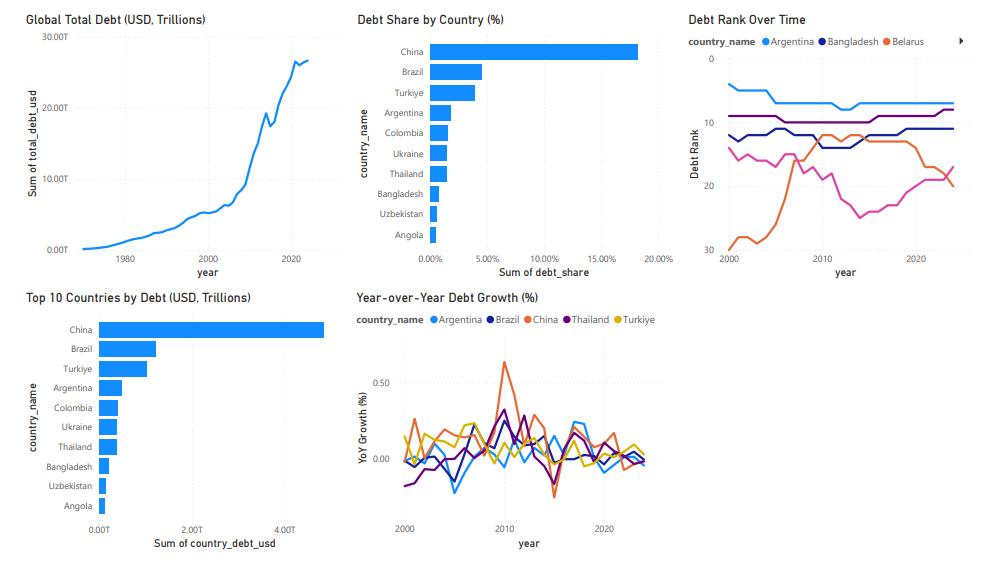

This screenshot's page, from the dashboard's own definition file:
{"tool":"powerbi","page":{"name":"Page 1","canvas":[1280,720],"ordinal":0},"visuals":[{"type":"barChart","title":"Top 10 Countries by Debt (USD, Trillions)","fields":{"Category":["ids pb_country_debt_by_year.country_name"],"Y":["Sum(ids pb_country_debt_by_year.country_debt_usd)"]},"box":[10,370,431,350],"z":0},{"type":"barChart","title":"Debt Share by Country (%)","fields":{"Category":["ids pb_country_debt_share.country_name"],"Y":["Sum(ids pb_country_debt_share.debt_share)"]},"box":[451,0,431,360],"z":1000},{"type":"lineChart","title":"Year-over-Year Debt Growth (%)","fields":{"Category":["ids pb_country_yoy_growth.year"],"Y":["Sum(ids pb_country_yoy_growth.yoy_growth_pct)"],"Series":["ids pb_country_yoy_growth.country_name"]},"box":[450.4,369.6,418.3,350.6],"z":2000},{"type":"lineChart","title":"Debt Rank Over Time","fields":{"Category":["ids pb_country_rank_by_year.year"],"Y":["Sum(ids pb_country_rank_by_year.debt_rank)"],"Series":["ids pb_country_rank_by_year.country_name"]},"box":[892,0,388,360],"z":3000},{"type":"lineChart","title":"Global Total Debt (USD, Trillions)","fields":{"Category":["ids pb_total_debt_by_year.year"],"Y":["Sum(ids pb_total_debt_by_year.total_debt_usd)"]},"box":[9.5,0,431.4,360.1],"z":4000}]}

Visuals, with their boxes in screenshot pixels (x1, y1, x2, y2), scaled from the page's 1280x720 canvas onto the 990x566 screenshot:
"Top 10 Countries by Debt (USD, Trillions)" barChart: bbox(8, 291, 341, 565)
"Debt Share by Country (%)" barChart: bbox(349, 0, 682, 283)
"Year-over-Year Debt Growth (%)" lineChart: bbox(348, 291, 672, 565)
"Debt Rank Over Time" lineChart: bbox(690, 0, 989, 283)
"Global Total Debt (USD, Trillions)" lineChart: bbox(7, 0, 341, 283)
